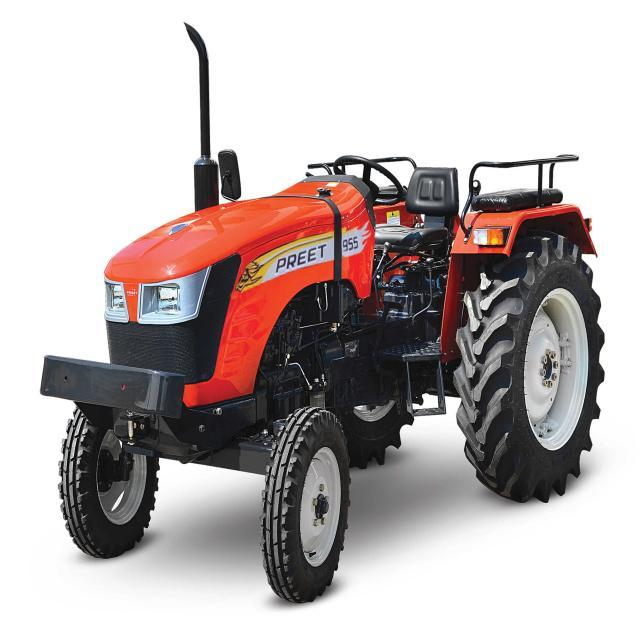Tratores - v5 YOLO V8L 2024-11-13: (35, 4, 615, 613)
